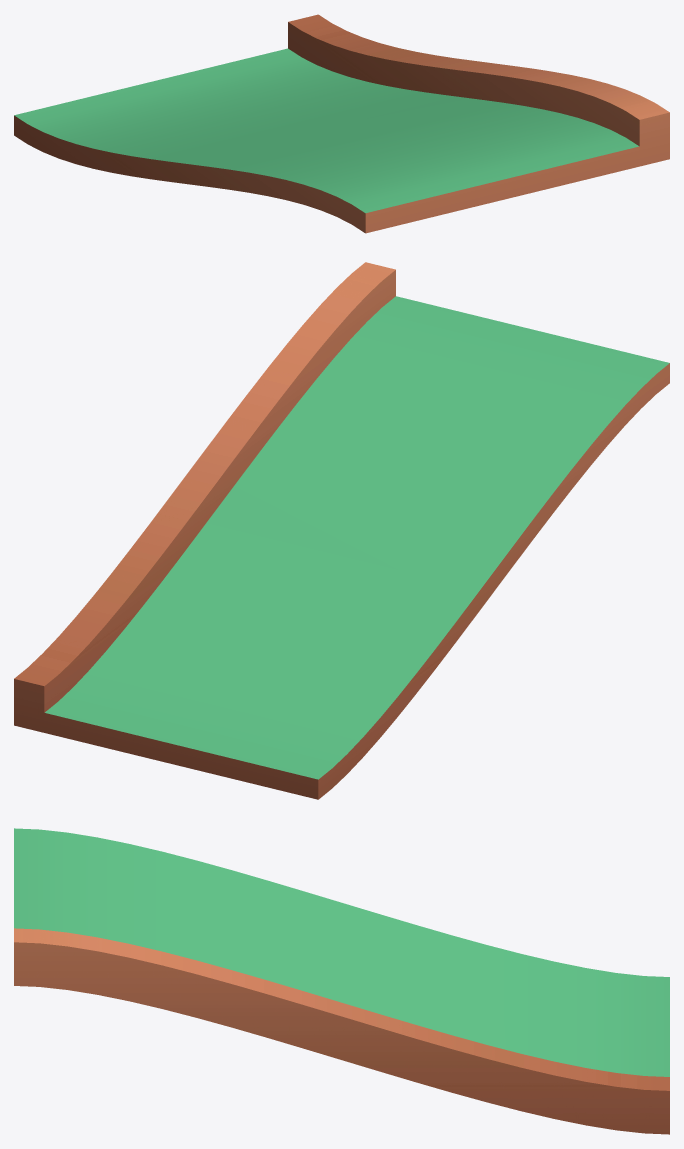
File: ramp-large-side.glb
The picture shows the model from 3 angles, top to bottom: view 1: azimuth 30°, elevation 25°; view 2: azimuth 150°, elevation 25°; view 3: azimuth 270°, elevation 25°; orthographic projection. The views are drawn at different scales.
Visible parts, largest first — view 1: ramp-large-side; view 2: ramp-large-side; view 3: ramp-large-side.
Boxes of the visible parts, box(x1,y1,x2,y2) form: ramp-large-side: box(14, 14, 669, 233); ramp-large-side: box(14, 262, 669, 799); ramp-large-side: box(14, 828, 669, 1134).
Size of the model in its own units: 1 by 0.6467 by 2.
1 material, 1 textured.
